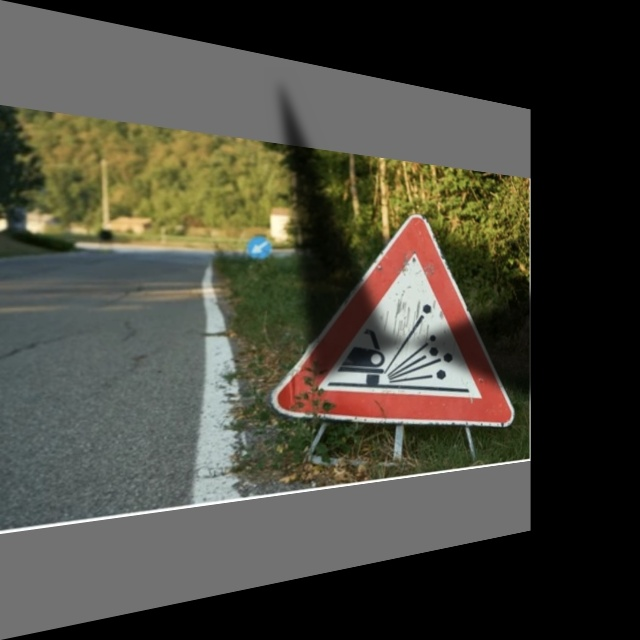Loose_Gravel: (283, 200, 510, 447)
